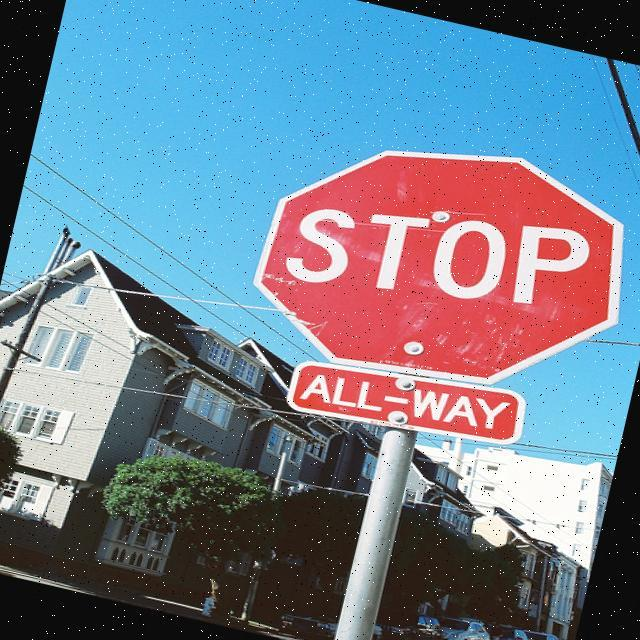fire_hydrant: (198, 595, 215, 617)
